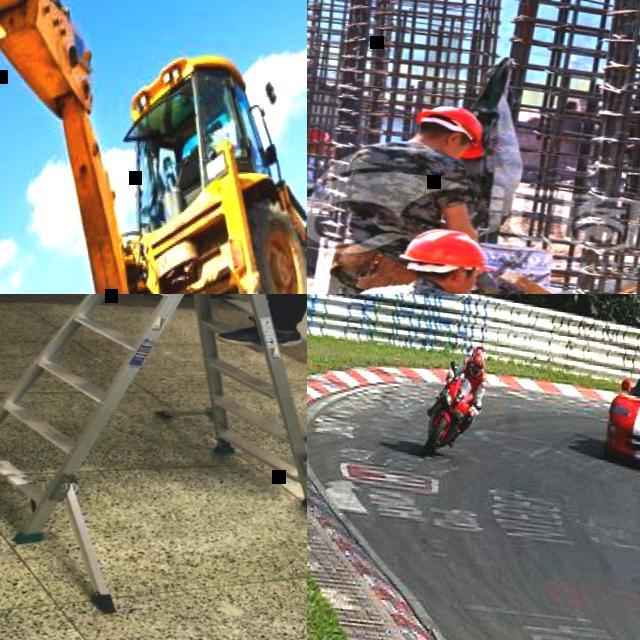Helmet: (390, 222, 497, 286), (414, 99, 490, 169), (464, 340, 493, 374), (306, 126, 336, 152)
Robbery: (333, 88, 498, 260), (357, 227, 504, 295), (436, 330, 492, 423), (307, 119, 343, 218)
